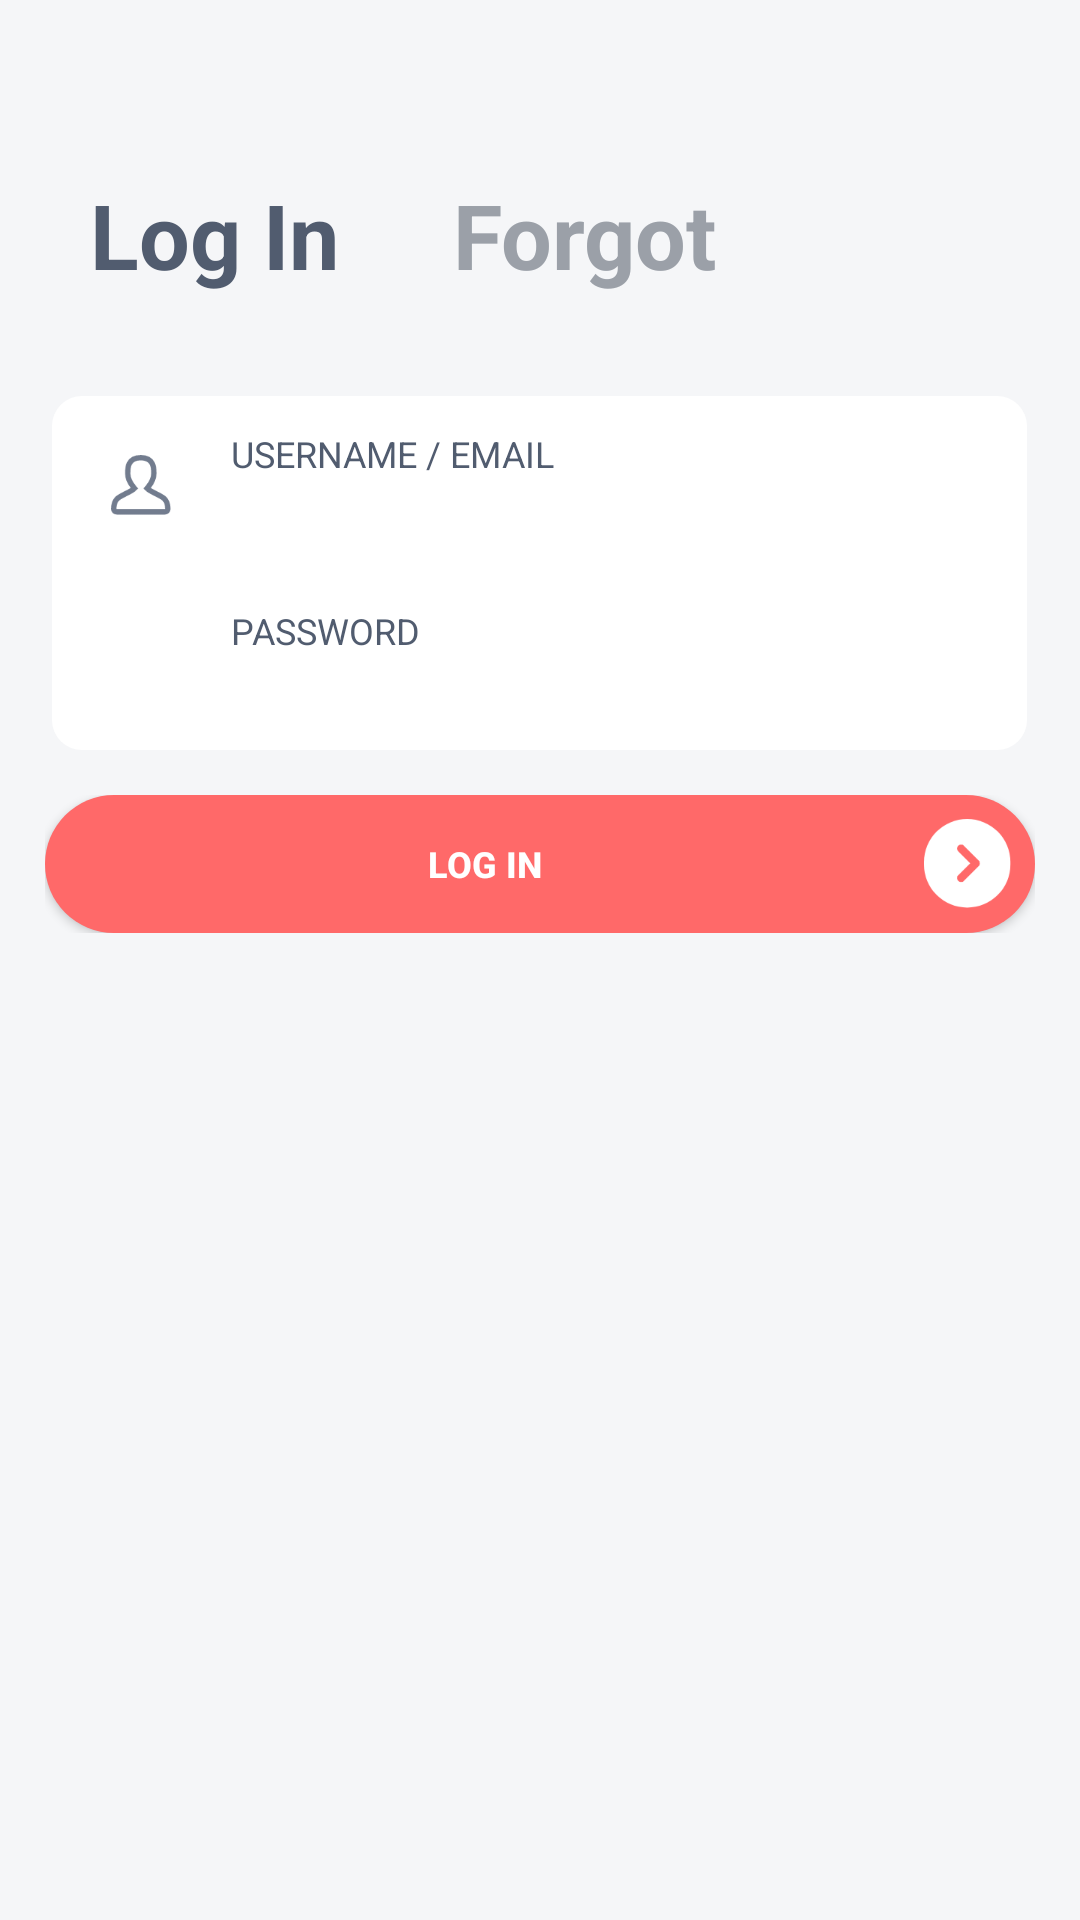

Icons on this 1080*1920 Android screen, each with the point to tap as point (x, y):
login profile: point (141, 485)
